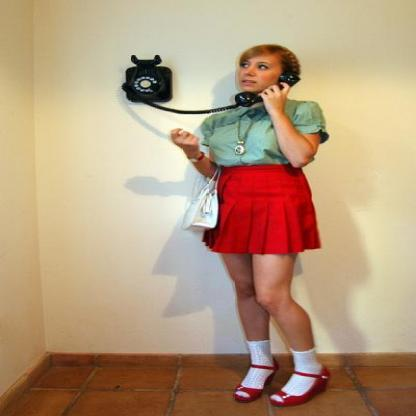bag: (178, 175, 217, 227)
shirt: (187, 94, 329, 166)
shoe: (237, 374, 329, 407)
skirt: (202, 162, 319, 254)
